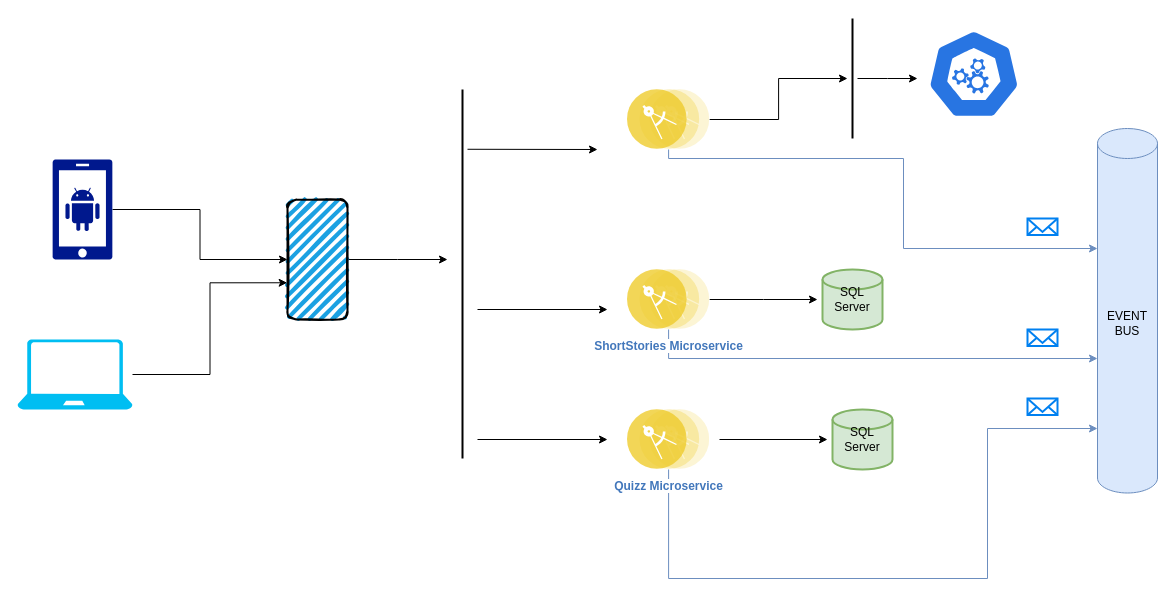
Image size: 1175x604. Some labels were removed from this diagram. Each missing label, with the box of its shape:
API GATEWAY: (286, 198, 348, 320)
GPTClient Microservice: (627, 89, 709, 149)
OPENAI - GPT TURBO 3.5: (926, 28, 1020, 118)
